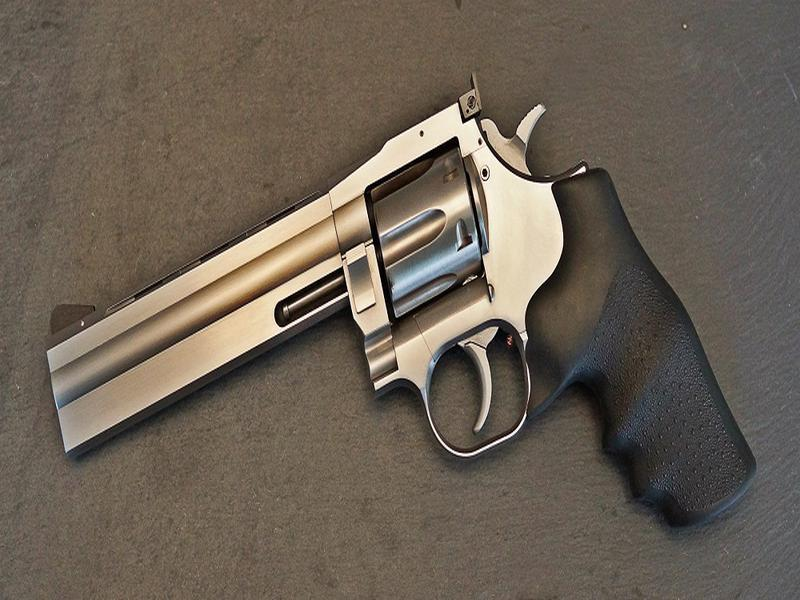Revolver: (37, 75, 780, 561)
